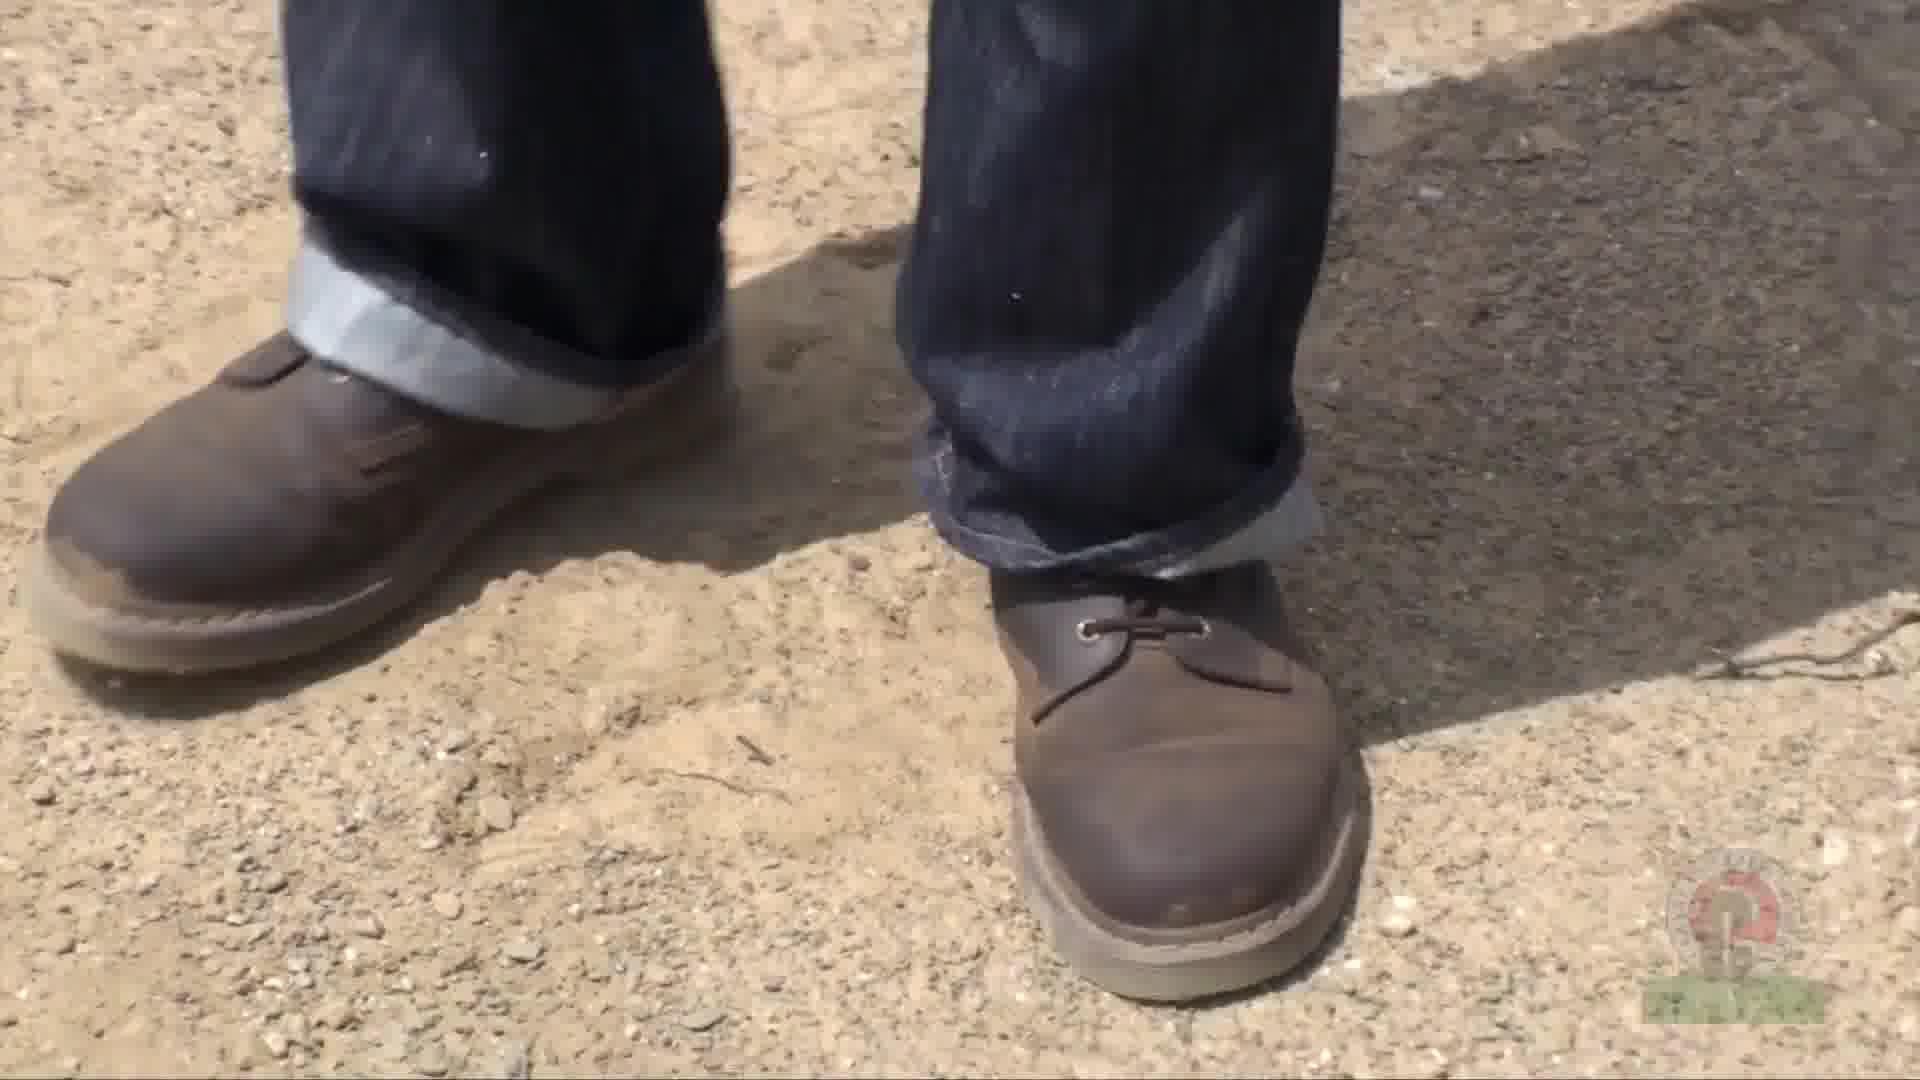safety boot: (26, 222, 1390, 1075)
